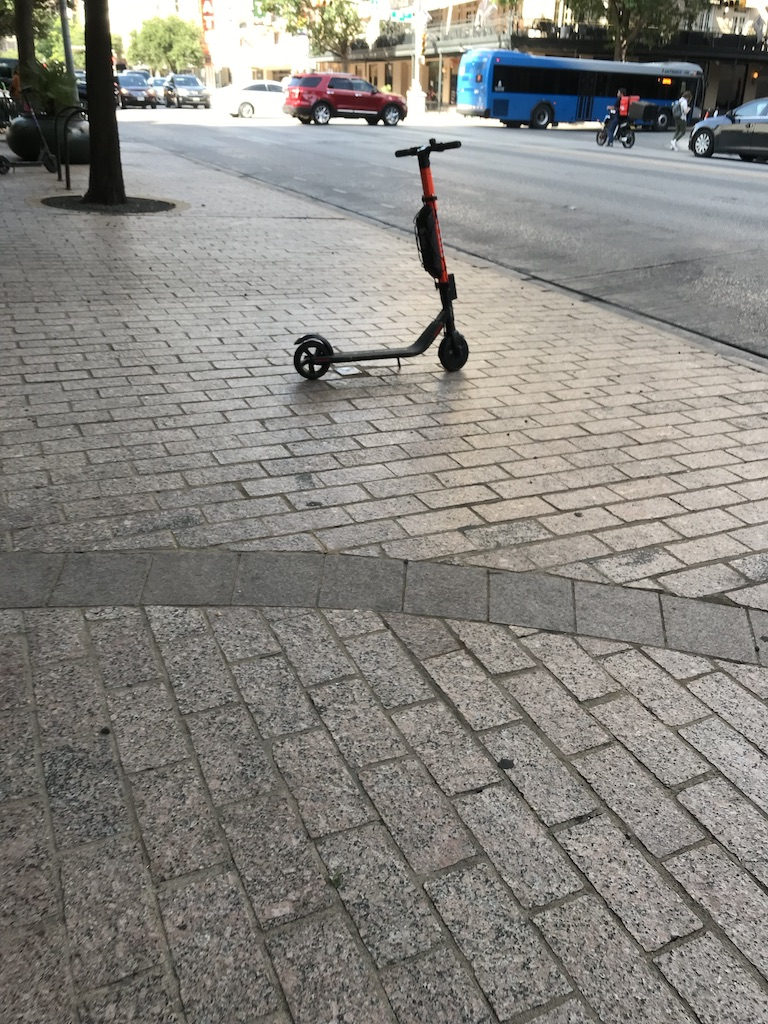scooter: (293, 140, 471, 377), (4, 88, 62, 175)
